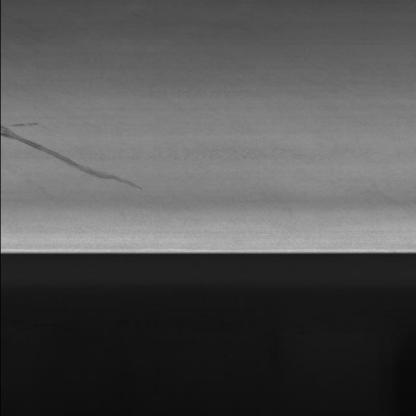water_spot: (0, 107, 157, 195)
